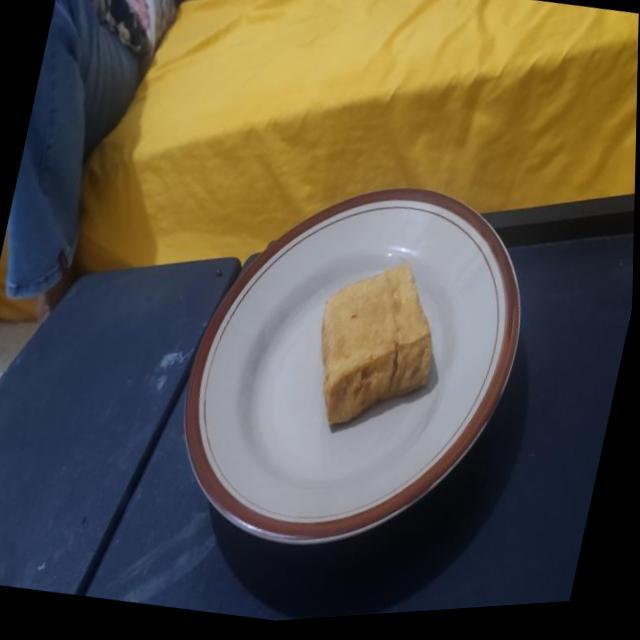tahu_goreng: (322, 265, 432, 424)
